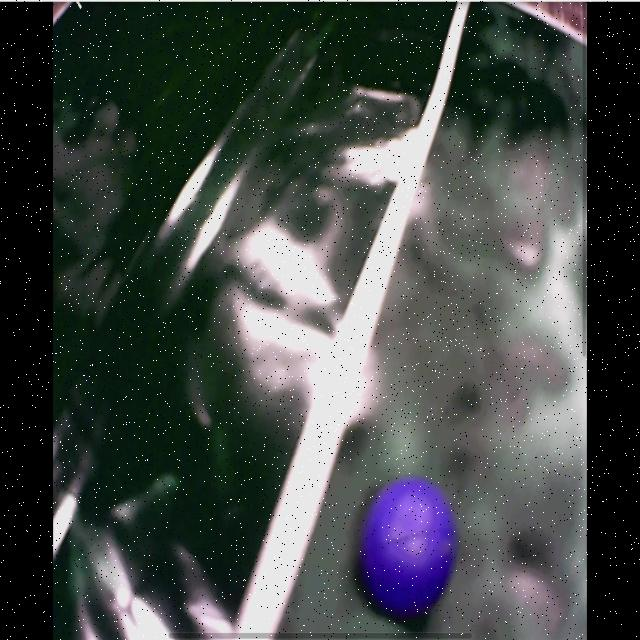ball: (365, 478, 456, 620)
